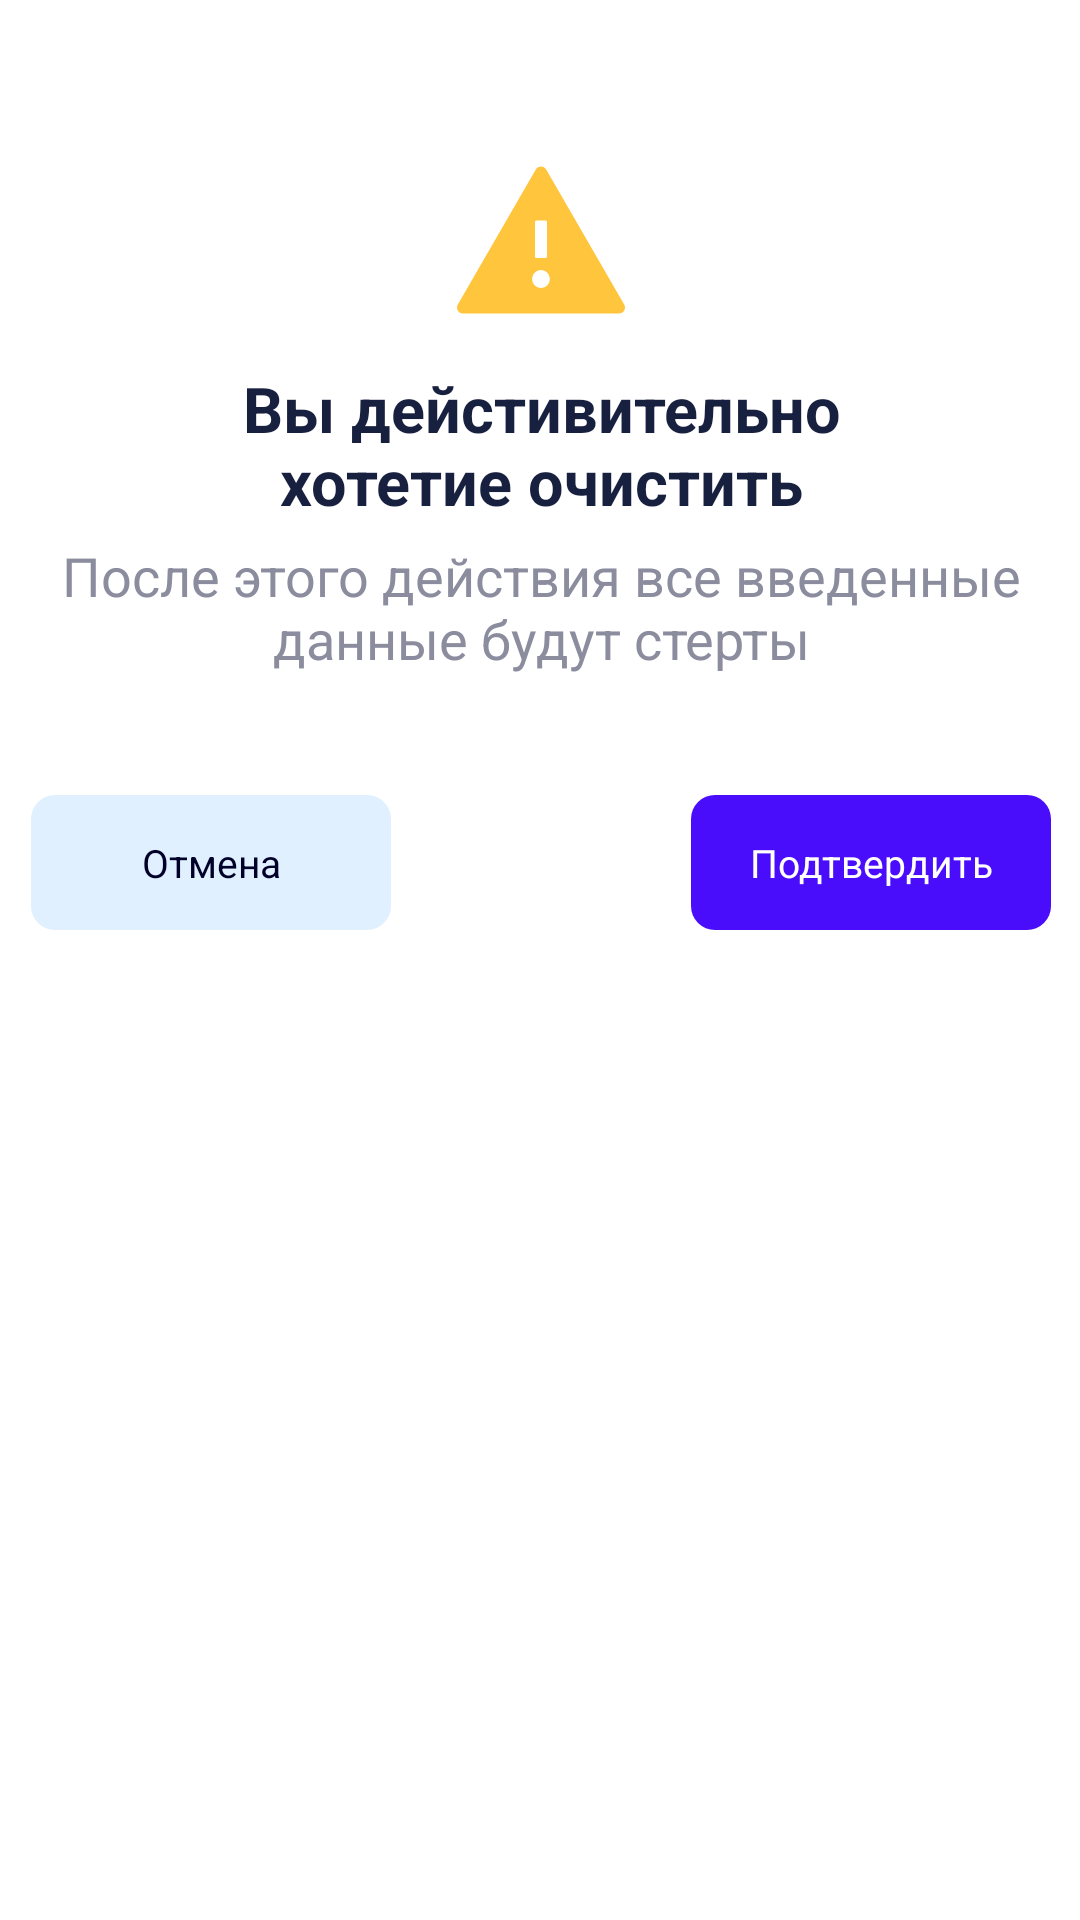

Where to tap for icons on this 1080*1920 app screen, as (x=x, y=y):
warning: (x=541, y=240)
